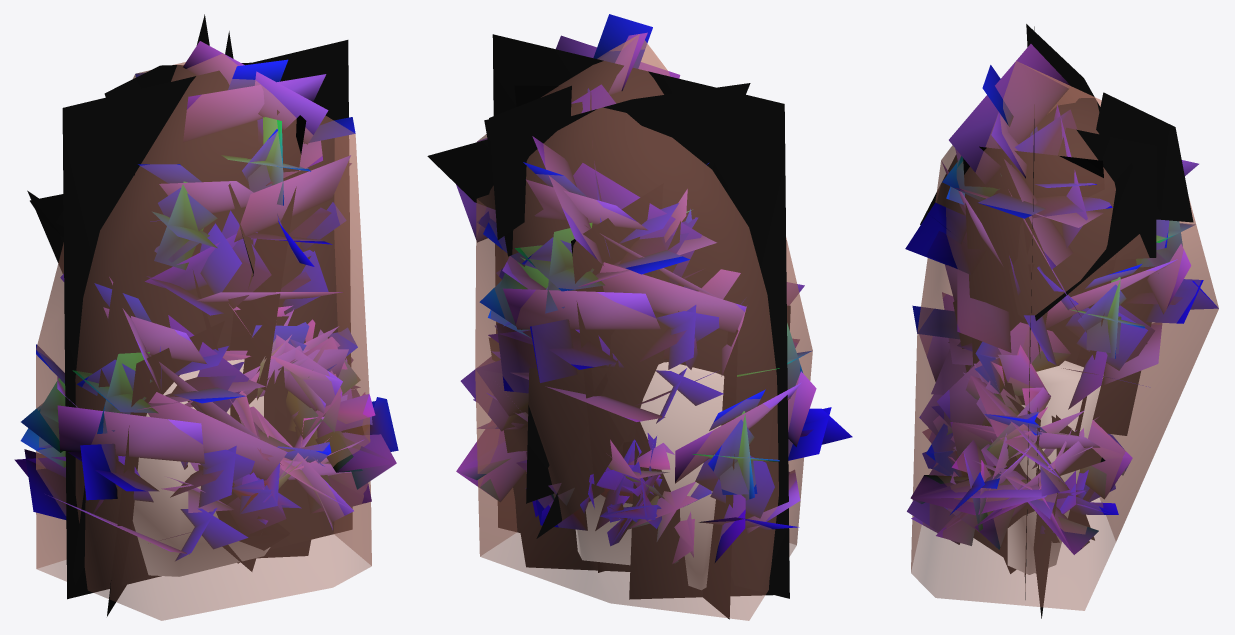
File: tree_oak_blocker_a.dae
3 views of the same model, side by side, from view 1: azimuth 30°, elevation 25°; view 2: azimuth 150°, elevation 25°; view 3: azimuth 270°, elevation 25° (orthographic). The views are drawn at different scales.
Visible parts, largest first — view 1: Colmesh_blocker-1, OakBlocker_a400, OakBlocker_a900; view 2: Colmesh_blocker-1, OakBlocker_a900, OakBlocker_a400; view 3: Colmesh_blocker-1, OakBlocker_a900, OakBlocker_a400.
Boxes of the visible parts, left/top/right/bottom form: Colmesh_blocker-1: left=36, top=53, right=371, bottom=620; OakBlocker_a400: left=14, top=31, right=398, bottom=616; OakBlocker_a900: left=27, top=14, right=398, bottom=597; Colmesh_blocker-1: left=475, top=34, right=812, bottom=620; OakBlocker_a900: left=427, top=14, right=852, bottom=619; OakBlocker_a400: left=457, top=34, right=832, bottom=616; Colmesh_blocker-1: left=911, top=61, right=1218, bottom=610; OakBlocker_a900: left=905, top=24, right=1218, bottom=618; OakBlocker_a400: left=907, top=26, right=1203, bottom=607.
Size of the model in its own units: 5.12 by 4.8 by 8.17.
